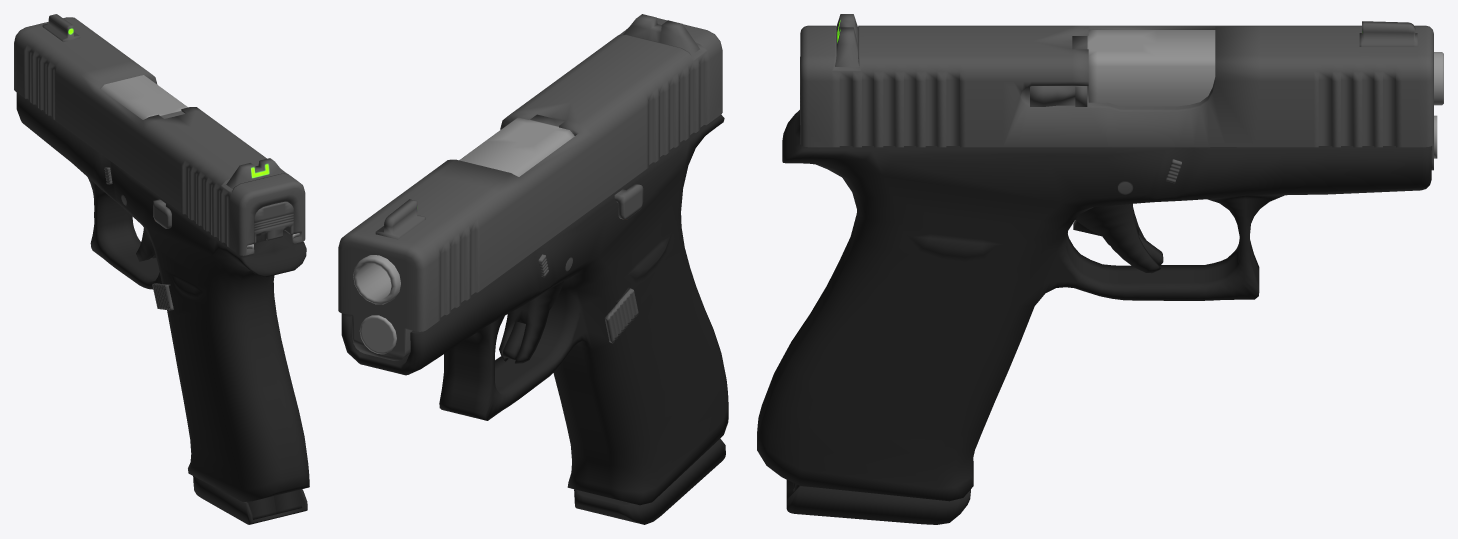
Rendered from glock_urpo.glb.
3 renders of one model, left to right at view 1: azimuth 30°, elevation 25°; view 2: azimuth 150°, elevation 25°; view 3: azimuth 270°, elevation 25°, orthographic. The views are drawn at different scales.
Parts seen in each view (by area): view 1: Frame, Slide, Magazine; view 2: Frame, Slide, Magazine; view 3: Frame, Slide, Magazine.
Part boxes in pixels (x1,y1,x2,y2): Frame: (16,92,309,501); Slide: (14,14,305,255); Magazine: (104,167,307,524); Frame: (341,114,728,505); Slide: (338,14,722,360); Magazine: (359,184,725,524); Frame: (757,110,1431,501); Slide: (800,14,1443,170); Magazine: (786,115,1437,524).
Size of the model in its own units: 0.2574 by 1.15 by 1.48.
3 materials, 3 textured.
